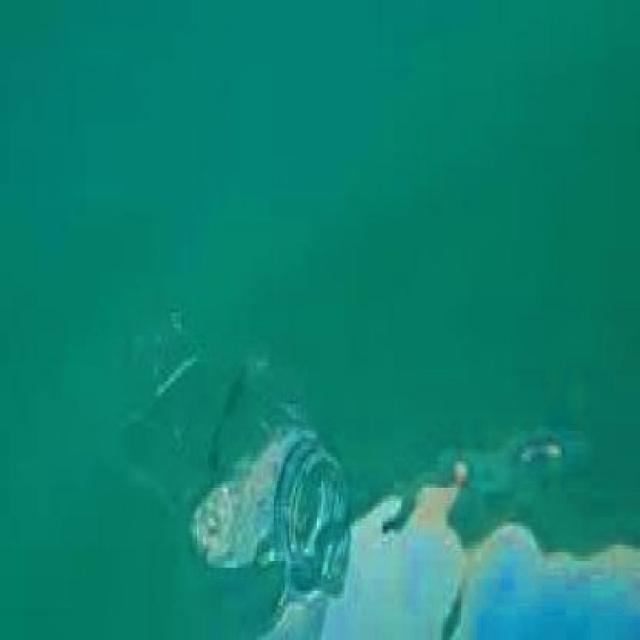pbottle: (94, 293, 351, 595)
